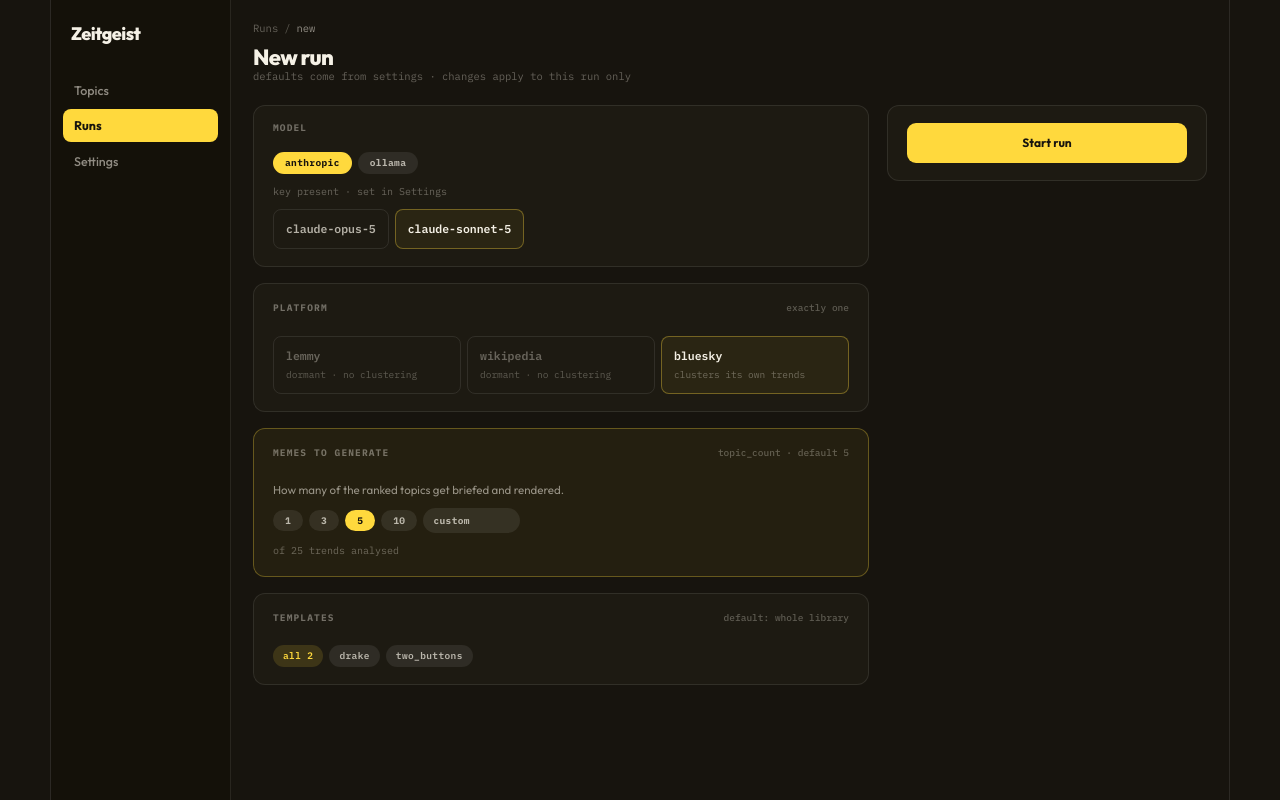
it: NewRunPage › goes to the run it just started
This screenshot has width=1280, height=800.
Step 1. Click the button "Start run" → (1047, 142), box left=907, top=122, right=1187, bottom=162
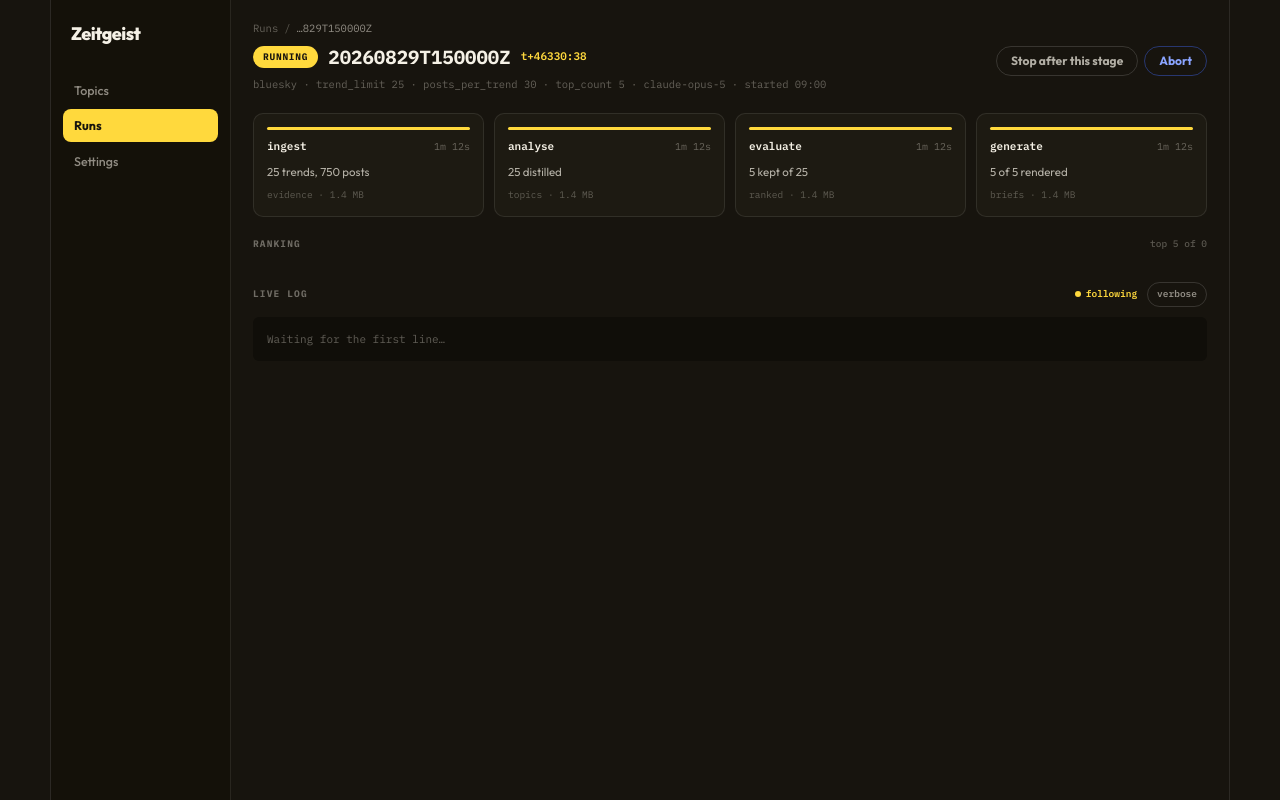
Result: the text "20260829T150000Z" is shown at left=328, top=48, right=511, bottom=66
